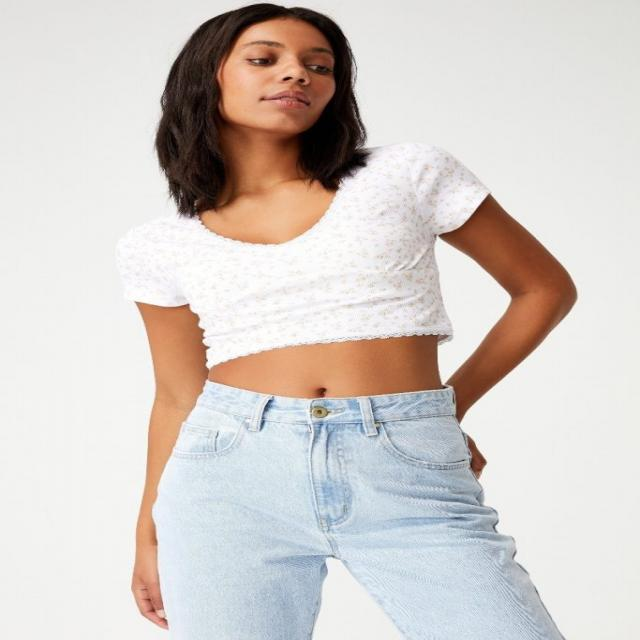clothes: (97, 140, 569, 640)
